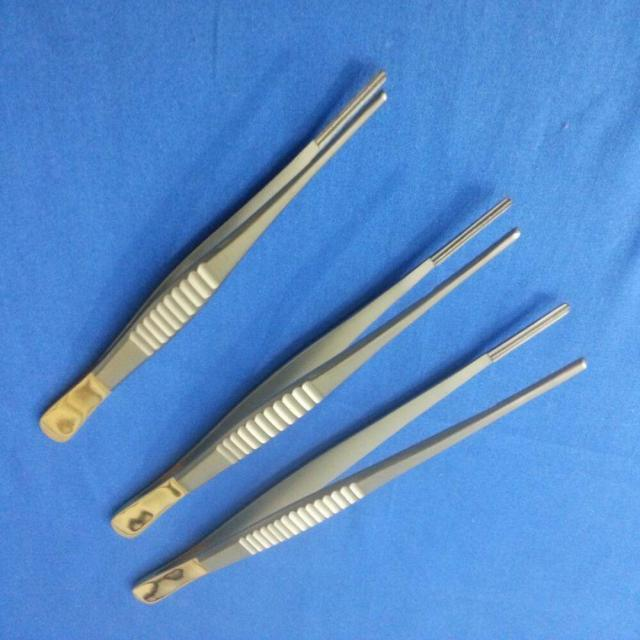Forceps: (109, 195, 523, 544), (131, 300, 588, 608), (37, 65, 392, 448)
